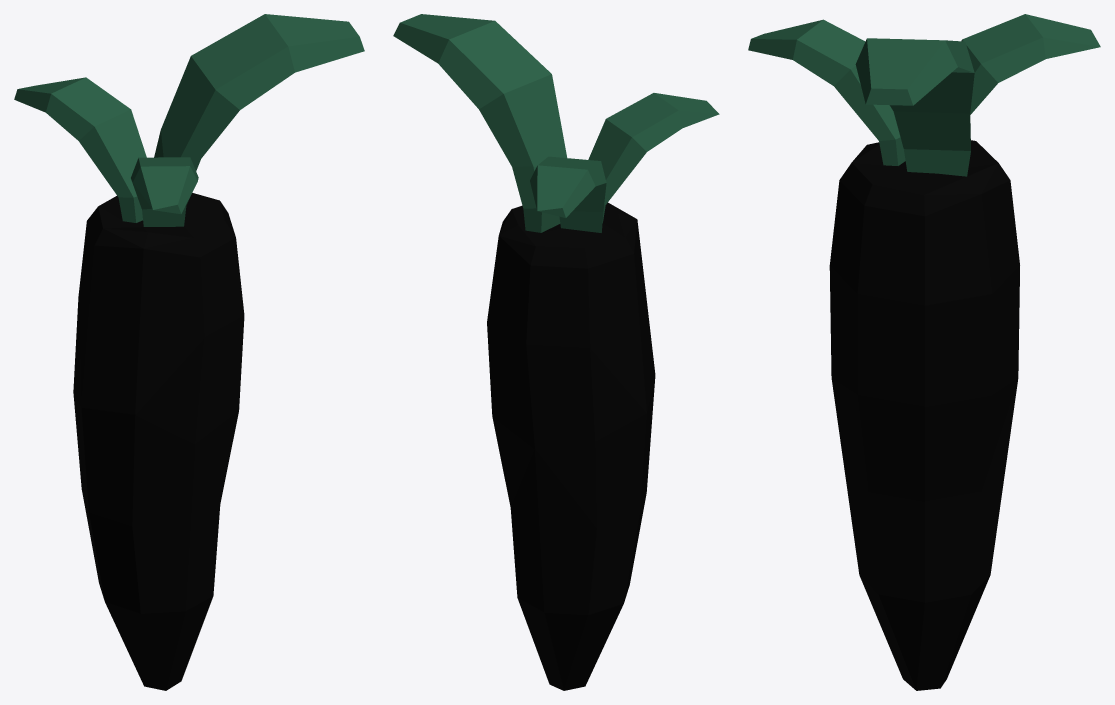
File: Caroot_M.fbx
3 renders of one model, left to right at view 1: azimuth 30°, elevation 25°; view 2: azimuth 150°, elevation 25°; view 3: azimuth 270°, elevation 25°, orthographic. The views are drawn at different scales.
Visible parts, largest first — view 1: Caroot_M; view 2: Caroot_M; view 3: Caroot_M.
Part boxes in pixels (x1,y1,x2,y2): Caroot_M: (14,14,364,690); Caroot_M: (393,14,719,690); Caroot_M: (748,14,1100,690).
Size of the model in its own units: 16.43 by 37.56 by 17.09.
